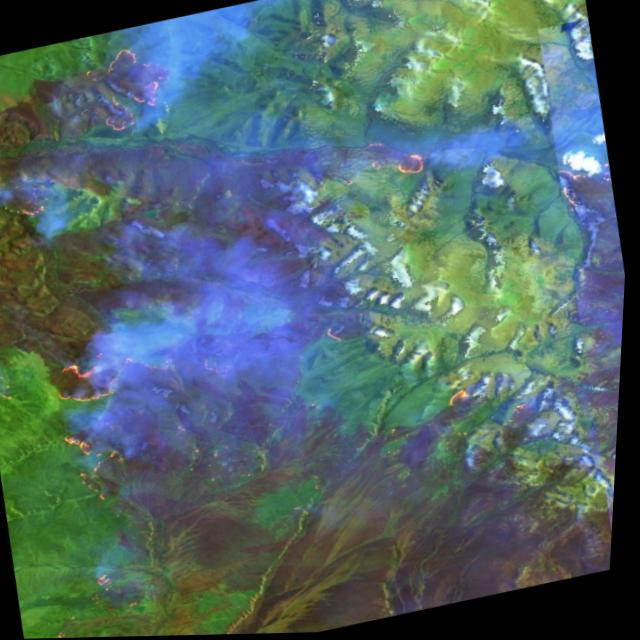fire: (70, 40, 188, 135), (43, 344, 150, 412), (58, 415, 139, 495), (0, 175, 55, 232), (373, 145, 442, 186), (86, 562, 137, 609), (435, 388, 488, 422)
